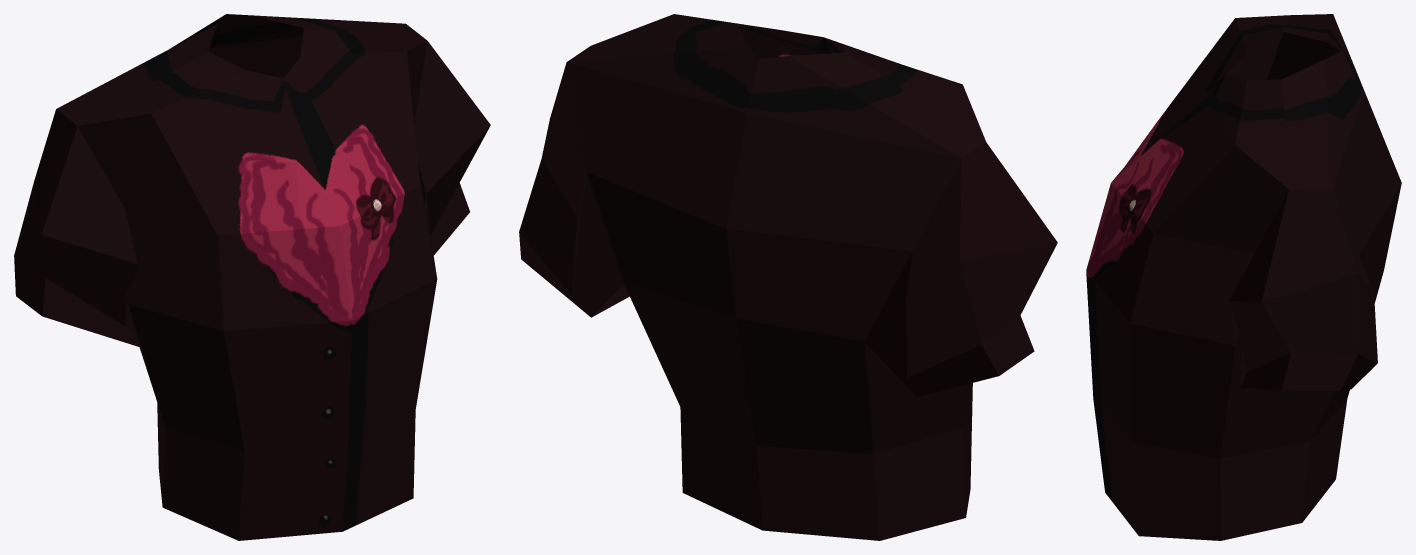
File: heartblouse.fbx
The picture shows the model from 3 angles, left to right: view 1: azimuth 30°, elevation 25°; view 2: azimuth 150°, elevation 25°; view 3: azimuth 270°, elevation 25°; orthographic projection. The views are drawn at different scales.
Visible parts, largest first — view 1: Blouse.001; view 2: Blouse.001; view 3: Blouse.001.
Part boxes in pixels (bbox=[...]): Blouse.001: bbox=[14, 14, 490, 540]; Blouse.001: bbox=[519, 14, 1057, 540]; Blouse.001: bbox=[1086, 14, 1401, 540].
Bounding box in the file's own units: 93.27 × 85.9 × 55.58.
